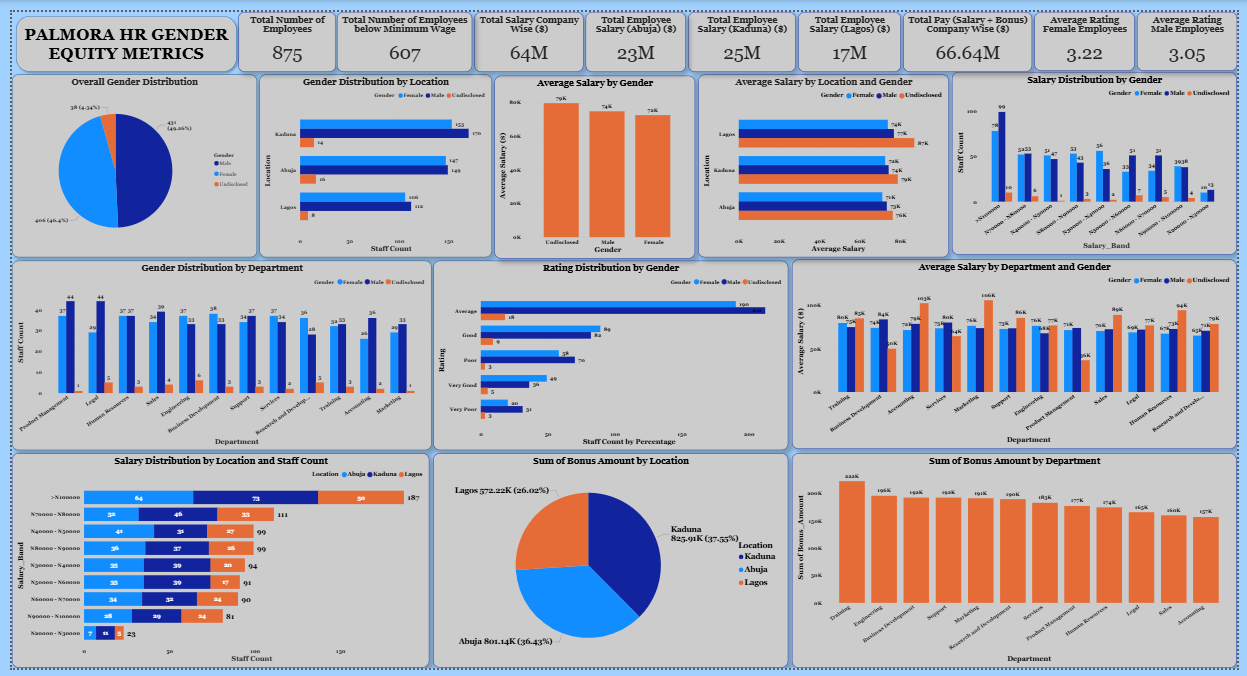

This screenshot's page, from the dashboard's own definition file:
{"tool":"powerbi","page":{"name":"Page 1","canvas":[2800,1500],"ordinal":0},"visuals":[{"type":"pieChart","title":"Overall Gender Distribution","fields":{"Category":["Palmoria_HR_Data_Final (2).Gender"],"Y":["Palmoria_HR_Data_Final (2).Name"]},"box":[0,142.5,559.8,417.2],"z":0},{"type":"clusteredBarChart","title":"Gender Distribution by Location","fields":{"Series":["Palmoria_HR_Data_Final (2).Gender"],"Y":["Palmoria_HR_Data_Final (2).Name"],"Category":["Palmoria_HR_Data_Final (2).Location"]},"box":[565,142.5,531.3,417.2],"z":1000},{"type":"clusteredColumnChart","title":"Gender Distribution by Department","fields":{"Category":["Palmoria_HR_Data_Final (2).Department"],"Series":["Palmoria_HR_Data_Final (2).Gender"],"Y":["Palmoria_HR_Data_Final (2).Name"]},"box":[0,567.6,958.9,432.8],"z":2000},{"type":"clusteredBarChart","title":"Rating Distribution by Gender","fields":{"Category":["Palmoria_HR_Data_Final (2).Rating"],"Series":["Palmoria_HR_Data_Final (2).Gender"],"Y":["Palmoria_HR_Data_Final (2).Name"]},"box":[964.1,567.6,811.2,432.8],"z":3000},{"type":"columnChart","title":"Average Salary by Gender","fields":{"Category":["Palmoria_HR_Data_Final (2).Gender"],"Y":["Palmoria_HR_Data_Final (2).Salary"]},"box":[1104,145.1,458.7,417.2],"z":4000},{"type":"clusteredColumnChart","title":"Average Salary by Department and Gender","fields":{"Category":["Palmoria_HR_Data_Final (2).Department"],"Y":["Palmoria_HR_Data_Final (2).Salary"],"Series":["Palmoria_HR_Data_Final (2).Gender"]},"box":[1783,565,1015.9,432.8],"z":5000},{"type":"clusteredBarChart","title":"Average Salary by Location and Gender","fields":{"Series":["Palmoria_HR_Data_Final (2).Gender"],"Category":["Palmoria_HR_Data_Final (2).Location"],"Y":["Palmoria_HR_Data_Final (2).Salary"]},"box":[1567.9,142.5,572.7,417.2],"z":6000},{"type":"clusteredColumnChart","title":"Salary Distribution by Gender","fields":{"Category":["Palmoria_HR_Data_Final (2).Salary_Band"],"Series":["Palmoria_HR_Data_Final (2).Gender"],"Y":["Palmoria_HR_Data_Final (2).Name"]},"box":[2148.4,137.4,650.5,417.2],"z":7000},{"type":"card","title":"Total Salary Company Wise ($)","fields":{"Values":["Palmoria_HR_Data_Final (2).Salary"]},"box":[1057.1,0,248.6,137.1],"z":8000},{"type":"card","title":"Total Number of Employees","fields":{"Values":["Palmoria_HR_Data_Final (2).Name"]},"box":[517.1,0,222.9,137.1],"z":9000},{"type":"card","title":"Total Number of Employees below Minimum Wage","fields":{"Values":["Palmora_HR_Data_Final.Employees Below Min Wage"]},"box":[742.9,0,308.6,137.1],"z":10000},{"type":"barChart","title":"Salary Distribution by Location and Staff Count","fields":{"Category":["Palmora_HR_Data_Final.Salary_Band"],"Y":["Palmora_HR_Data_Final.Name"],"Series":["Palmora_HR_Data_Final.Location"]},"box":[0,1008.1,953.7,489.8],"z":11000},{"type":"pieChart","title":"Sum of Bonus Amount by Location","fields":{"Category":["Palmora_HR_Data_Final.Location"],"Y":["Palmora_HR_Data_Final.Bonus_Amount"]},"box":[964.1,1008.1,811.2,489.8],"z":12000},{"type":"clusteredColumnChart","title":"Sum of Bonus Amount by Department","fields":{"Y":["Palmora_HR_Data_Final.Bonus_Amount"],"Category":["Palmora_HR_Data_Final.Department"]},"box":[1783,1008,1016,490],"z":13000},{"type":"card","title":"Total Employee Salary (Kaduna) ($)","fields":{"Values":["Palmora_HR_Data_Final.Total Salary Kaduna"]},"box":[1545.7,0,245.7,137.1],"z":14000},{"type":"card","title":"Total Employee Salary (Lagos) ($)","fields":{"Values":["Palmora_HR_Data_Final.Total Salary Lagos"]},"box":[1797.1,0,234.3,137.1],"z":15000},{"type":"card","title":"Total Pay (Salary + Bonus) Company Wise ($)","fields":{"Values":["Palmora_HR_Data_Final.Total_Pay"]},"box":[2037.1,0,294.3,137.1],"z":16000},{"type":"card","title":"Total Employee Salary (Abuja) ($)","fields":{"Values":["Palmora_HR_Data_Final.Total Salary Abuja"]},"box":[1311.4,0,228.6,137.1],"z":17000},{"type":"shape","box":[0,0,522.9,145.7],"z":18000},{"type":"card","title":"Average Rating Female Employees","fields":{"Values":["Palmora_HR_Data_Final.Average Rating Female"]},"box":[2337.1,0,228.6,134.3],"z":19000},{"type":"card","title":"Average Rating Male Employees","fields":{"Values":["Palmora_HR_Data_Final.Average Rating Male"]},"box":[2571.4,0,228.6,134.3],"z":19001}]}

Visuals, with their boxes in screenshot pixels (x1, y1, x2, y2), scaled from the page's 2800x1500 canvas onto the 1247x676 screenshot:
"Overall Gender Distribution" pieChart: crop(0, 64, 249, 252)
"Gender Distribution by Location" clusteredBarChart: crop(252, 64, 488, 252)
"Gender Distribution by Department" clusteredColumnChart: crop(0, 256, 427, 451)
"Rating Distribution by Gender" clusteredBarChart: crop(429, 256, 791, 451)
"Average Salary by Gender" columnChart: crop(492, 65, 696, 253)
"Average Salary by Department and Gender" clusteredColumnChart: crop(794, 255, 1246, 450)
"Average Salary by Location and Gender" clusteredBarChart: crop(698, 64, 953, 252)
"Salary Distribution by Gender" clusteredColumnChart: crop(957, 62, 1246, 250)
"Total Salary Company Wise ($)" card: crop(471, 0, 582, 62)
"Total Number of Employees" card: crop(230, 0, 330, 62)
"Total Number of Employees below Minimum Wage" card: crop(331, 0, 468, 62)
"Salary Distribution by Location and Staff Count" barChart: crop(0, 454, 425, 675)
"Sum of Bonus Amount by Location" pieChart: crop(429, 454, 791, 675)
"Sum of Bonus Amount by Department" clusteredColumnChart: crop(794, 454, 1246, 675)
"Total Employee Salary (Kaduna) ($)" card: crop(688, 0, 798, 62)
"Total Employee Salary (Lagos) ($)" card: crop(800, 0, 905, 62)
"Total Pay (Salary + Bonus) Company Wise ($)" card: crop(907, 0, 1038, 62)
"Total Employee Salary (Abuja) ($)" card: crop(584, 0, 686, 62)
shape: crop(0, 0, 233, 66)
"Average Rating Female Employees" card: crop(1041, 0, 1143, 61)
"Average Rating Male Employees" card: crop(1145, 0, 1246, 61)
